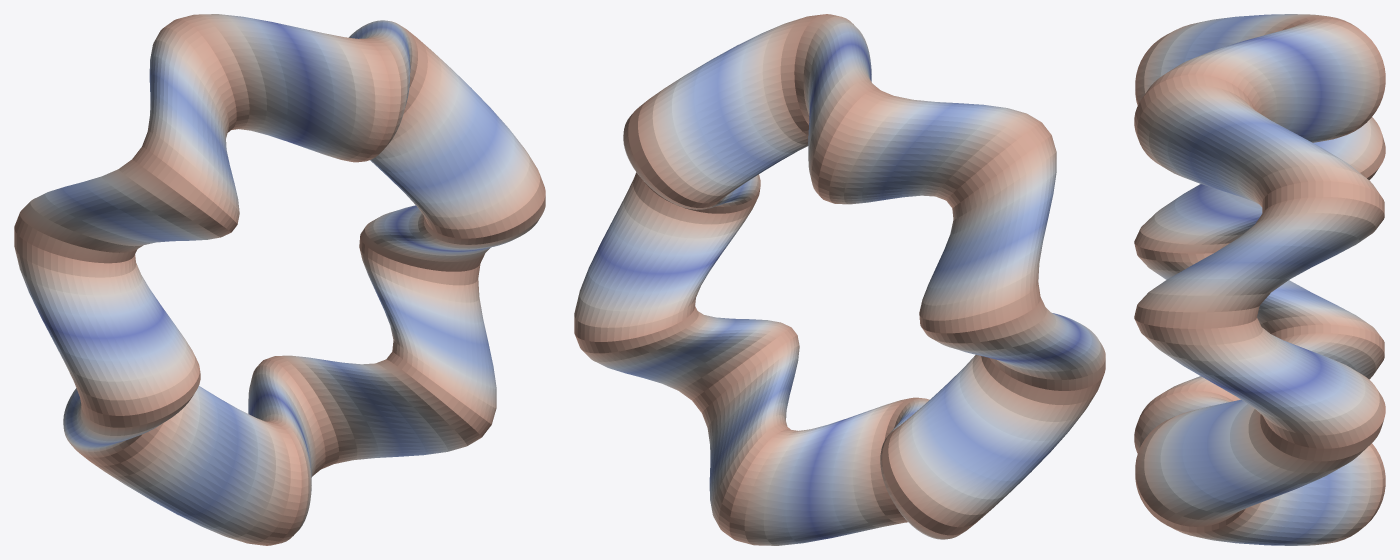
File: step_15.glb
3 renders of one model, left to right at view 1: azimuth 30°, elevation 25°; view 2: azimuth 150°, elevation 25°; view 3: azimuth 270°, elevation 25°, orthographic.
Visible parts, largest first — view 1: world; view 2: world; view 3: world.
Part boxes in pixels (box(x1,y1,x2,y2)): world: box(14, 14, 545, 545); world: box(574, 14, 1105, 545); world: box(1134, 14, 1385, 545).
Bounding box in the file's own units: 26 × 26 × 12.29.
